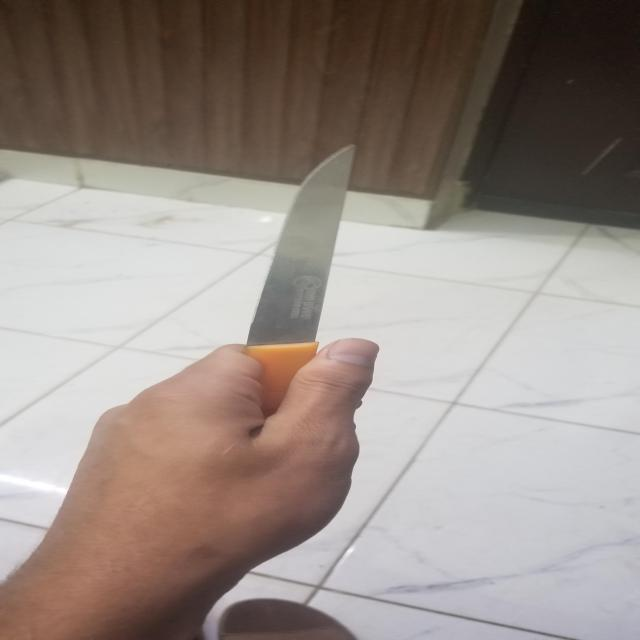Knife: (247, 147, 361, 417)
Person: (0, 338, 379, 640)
